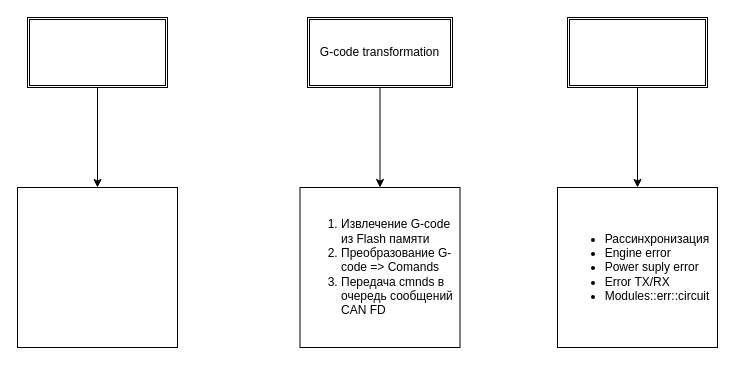
Some shapes in this 735 by 365 pixel diagram are drawn without their labels. The centre of each missing label's shape, as x and y in pixels:
"ERR" goes at [637,52].
"Receive from computer" goes at [97,52].
